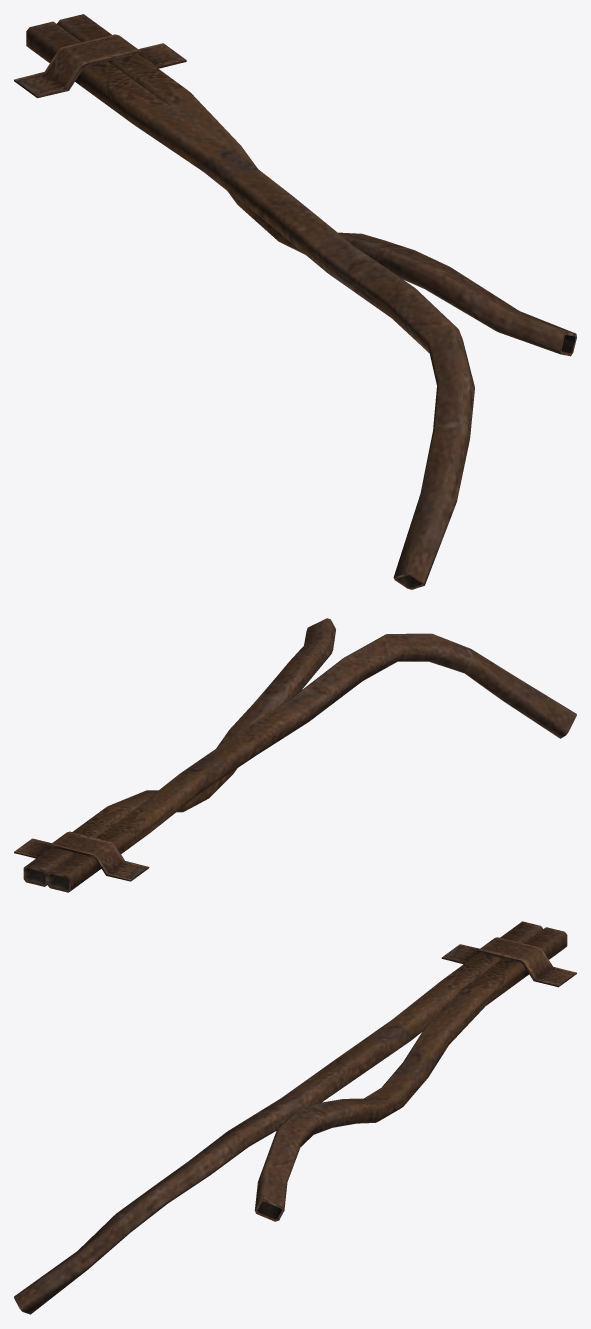
File: girder_rusty_support_damage02.dae
3 views of the same model, one above another, from view 1: azimuth 30°, elevation 25°; view 2: azimuth 150°, elevation 25°; view 3: azimuth 330°, elevation 25° (orthographic). The views are drawn at different scales.
Parts seen in each view (by area): view 1: damage02; view 2: damage02; view 3: damage02.
Boxes of the visible parts, x1,y1,x2,y2 form: damage02: (14, 14, 576, 589); damage02: (14, 618, 576, 892); damage02: (14, 921, 576, 1314).
Bounding box in the file's own units: 0.768 × 0.4832 × 2.66.
